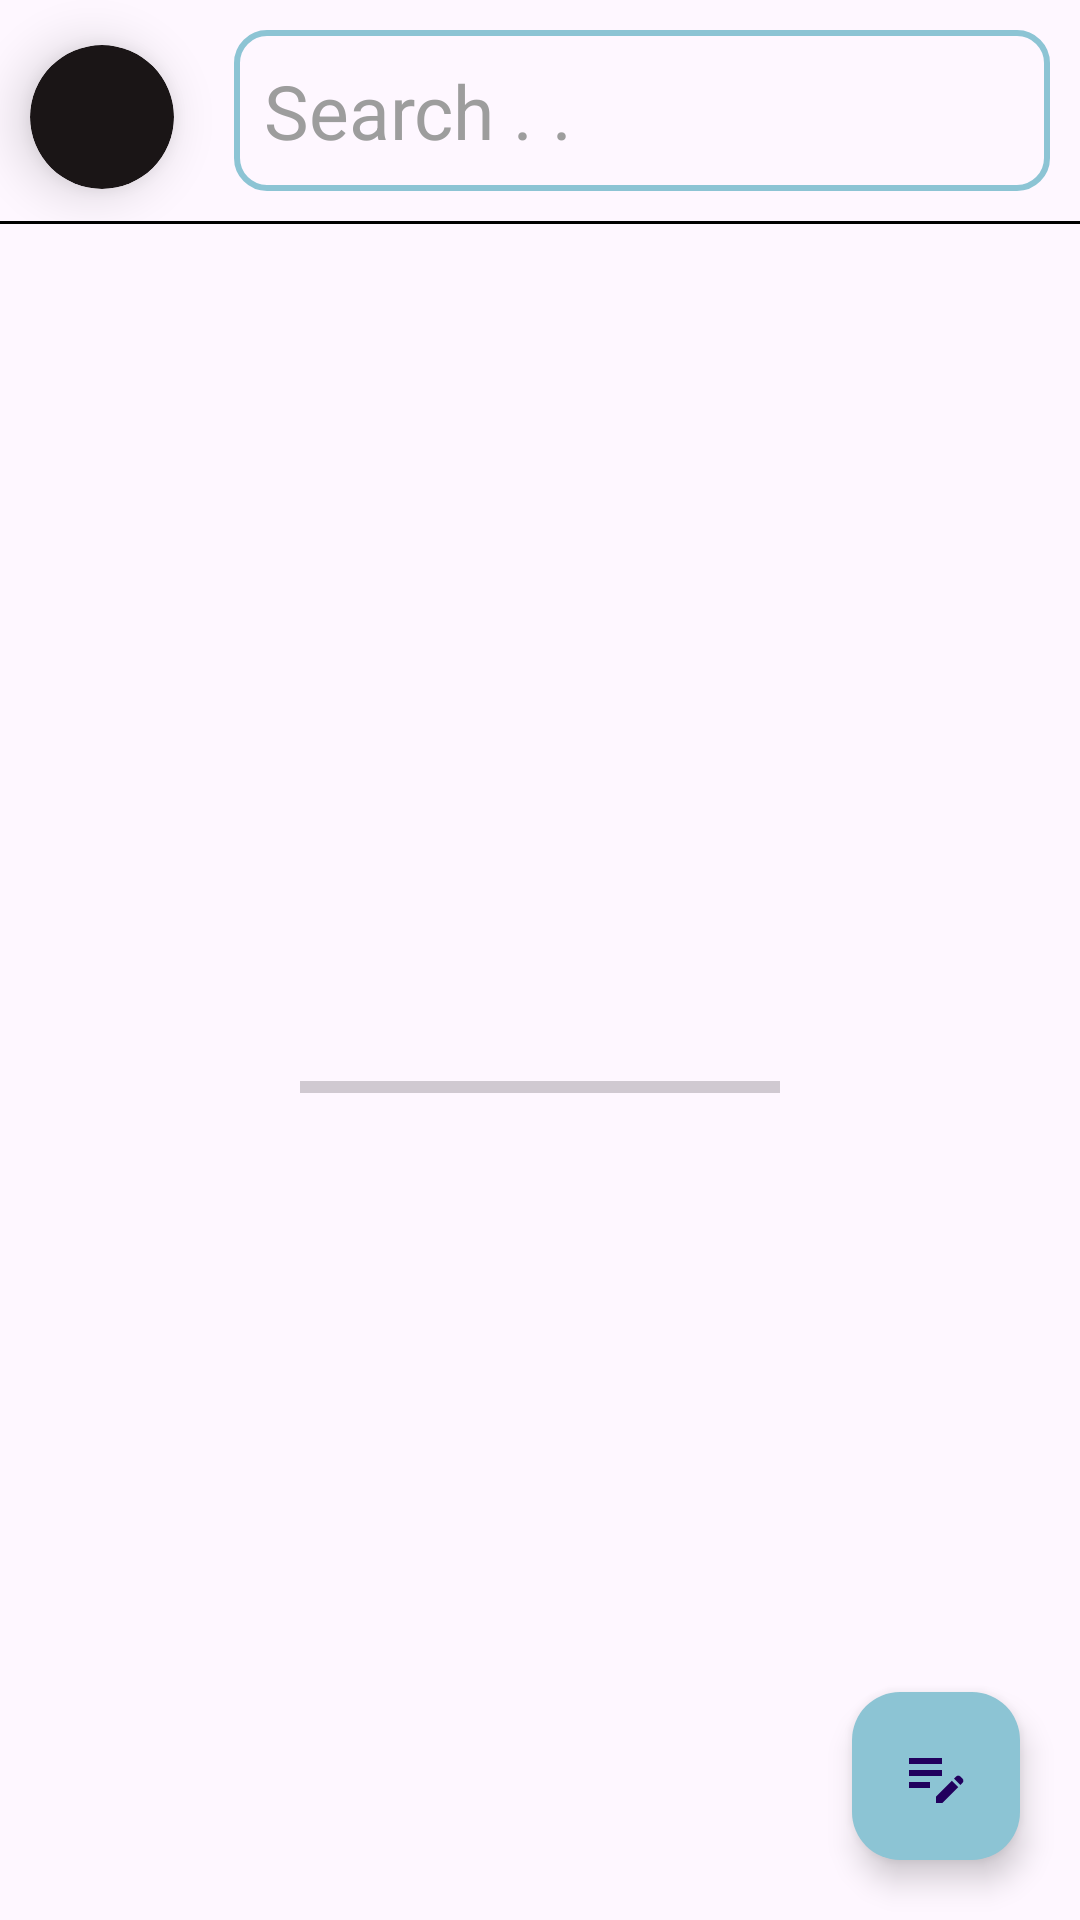

Locate icon controls on the screen. Image size 1080*1920, boxes as (x1, y1, x2, y2).
Floating action button: (852, 1692, 1020, 1860)
